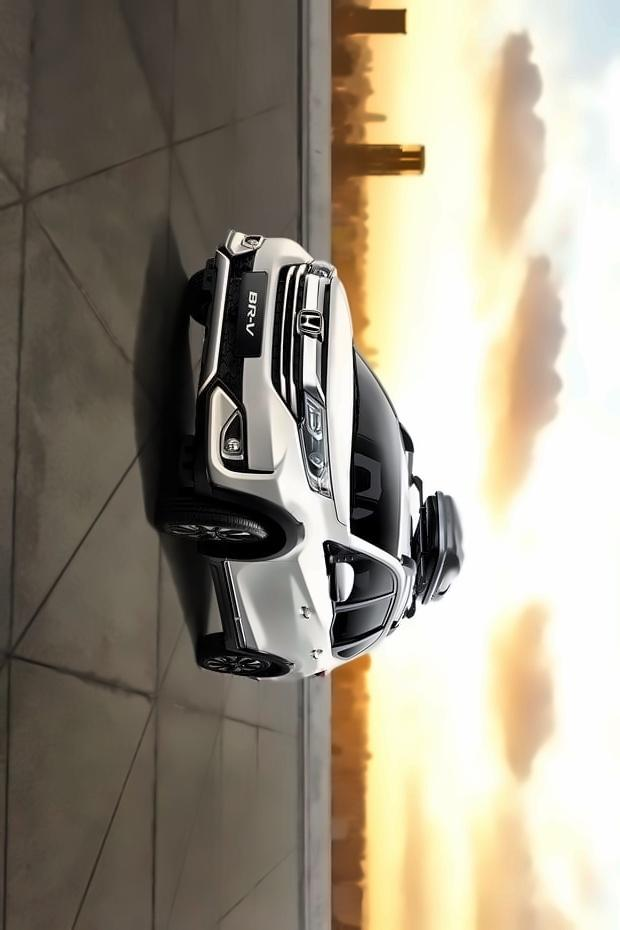Car hood: (321, 266, 357, 529)
Fender - -F-L-: (196, 488, 357, 563)
Fender - -R-L-: (267, 654, 338, 677)
Front bumper: (185, 224, 314, 524)
Headlight - -L-: (294, 384, 337, 502)
Headlight - -R-: (304, 253, 341, 290)
Passenger-s door - -F-L-: (218, 554, 405, 624)
Passenger-s door - -R-L-: (227, 609, 405, 664)
Rear bumper: (238, 669, 290, 689)
Rear light - -L-: (313, 665, 337, 682)
Side bumper - -L-: (196, 543, 252, 659)
Side mirror - -L-: (325, 556, 364, 608)
